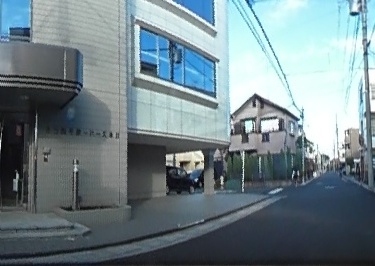person: (292, 164, 299, 186)
